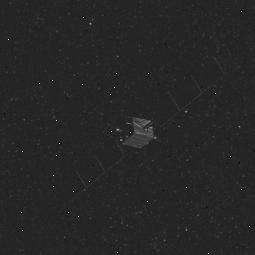smart_1: (74, 73, 212, 187)
